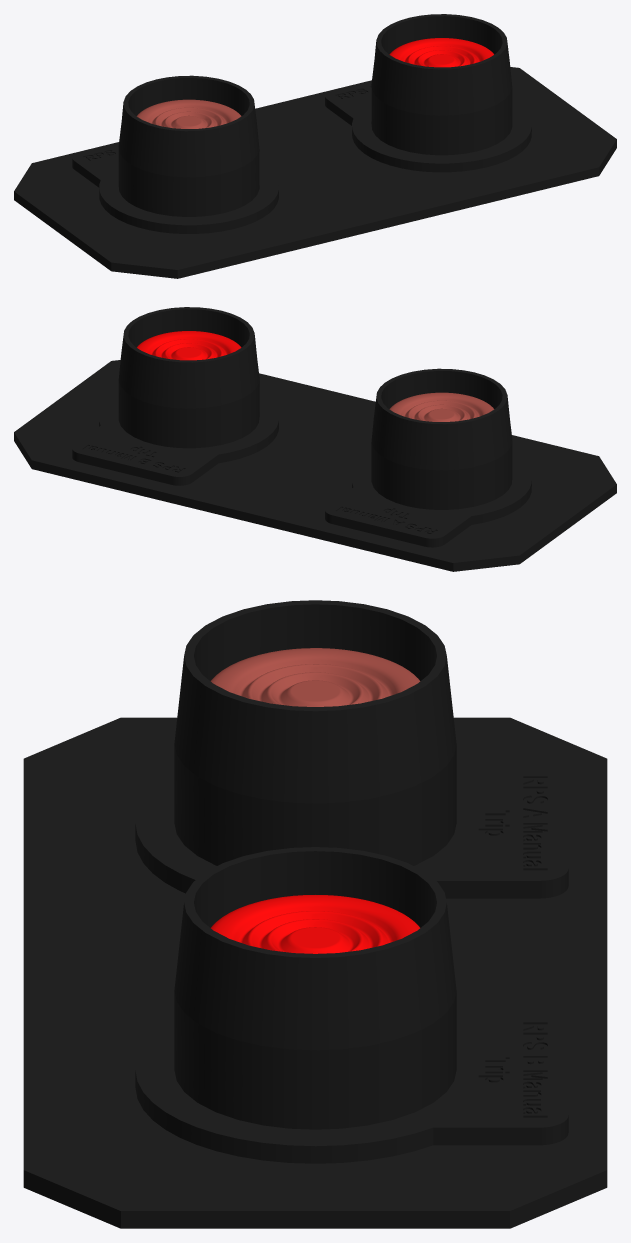
File: RPS-Man-Trip.fbx
3 renders of one model, top to bottom at view 1: azimuth 30°, elevation 25°; view 2: azimuth 150°, elevation 25°; view 3: azimuth 270°, elevation 25°, orthographic. The views are drawn at different scales.
Parts seen in each view (by area): view 1: Body, RPS B Movable, RPS A Movable; view 2: Body, RPS B Movable, RPS A Movable; view 3: Body, RPS A Movable, RPS B Movable.
Boxes of the visible parts, x1,y1,x2,y2 form: Body: (14,14,616,278); RPS B Movable: (389,38,493,67); RPS A Movable: (136,99,241,128); Body: (14,307,616,571); RPS B Movable: (137,331,241,360); RPS A Movable: (389,392,494,421); Body: (23,600,607,1228); RPS A Movable: (210,648,420,706); RPS B Movable: (211,895,419,953).
Size of the model in its own units: 120 by 23 by 60.
